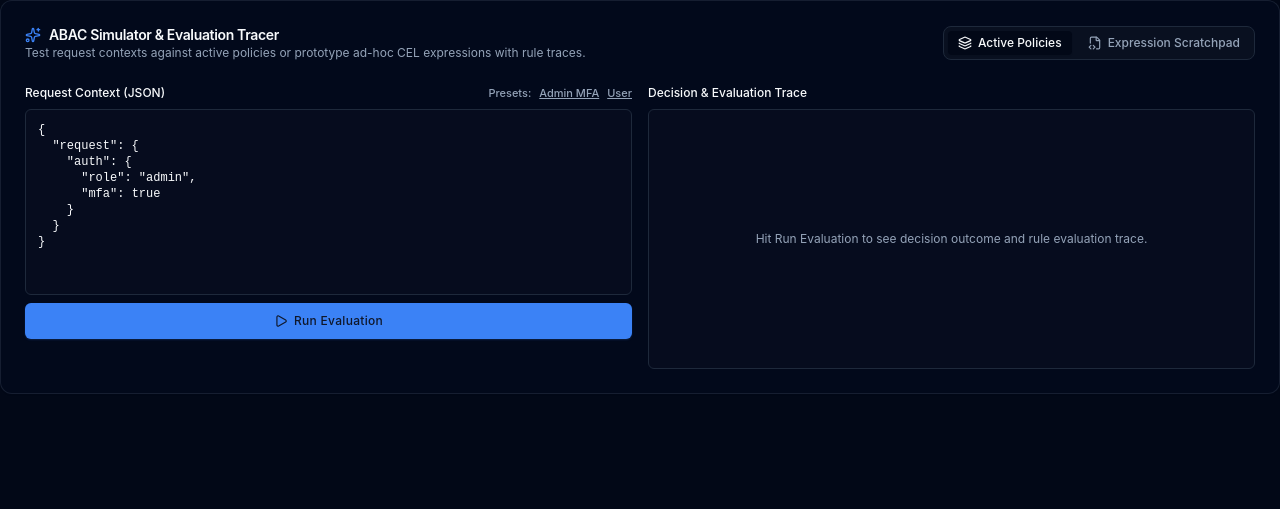
it: Themis Depth Components › validates scratchpad expression in DryRunPlayground
Click the button "Expression Scratchpad" at (1164, 43), box [1078,31,1250,55]
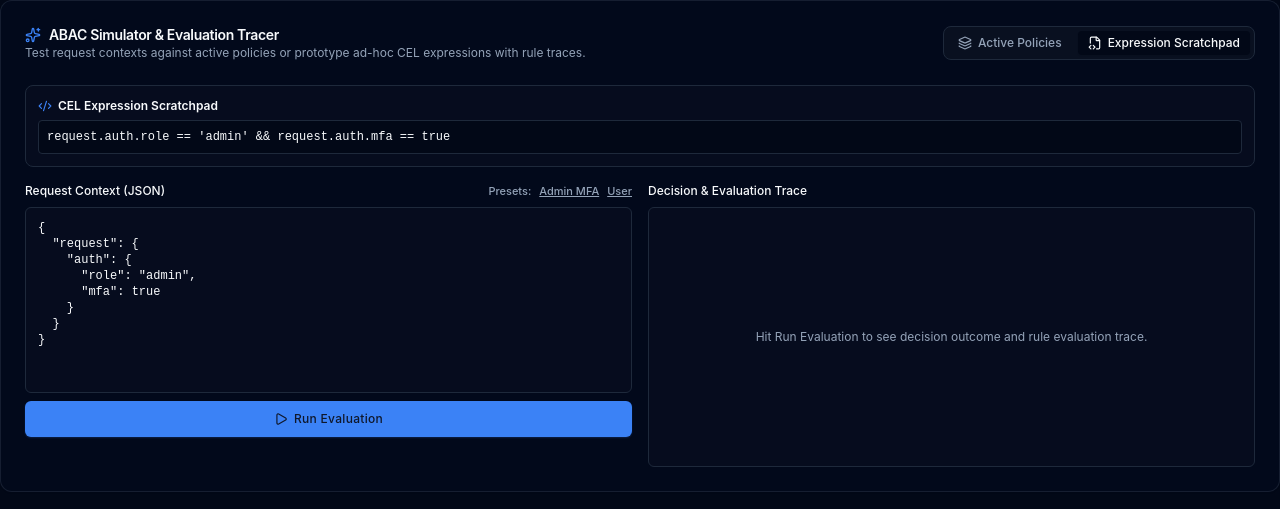
Now the text "CEL Expression Scratchpad" is shown, box [38,98,218,114]
